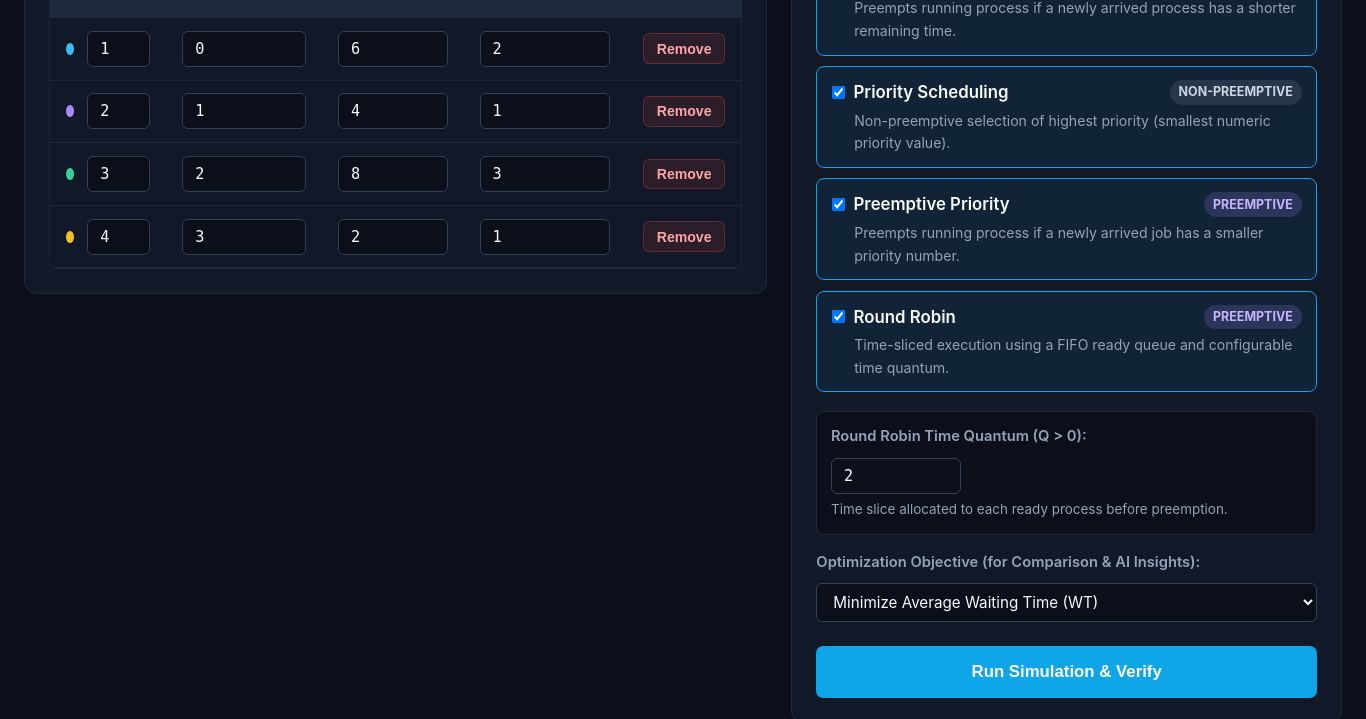
Test case: SchedulAI Frontend Suite › submits simulation, switches to Comparison tab, and displays Gantt and AI Insights
(page scrolled)
Click the button "Run Simulation & Verify" at (1067, 672), box [816,646,1317,698]
(page scrolled)
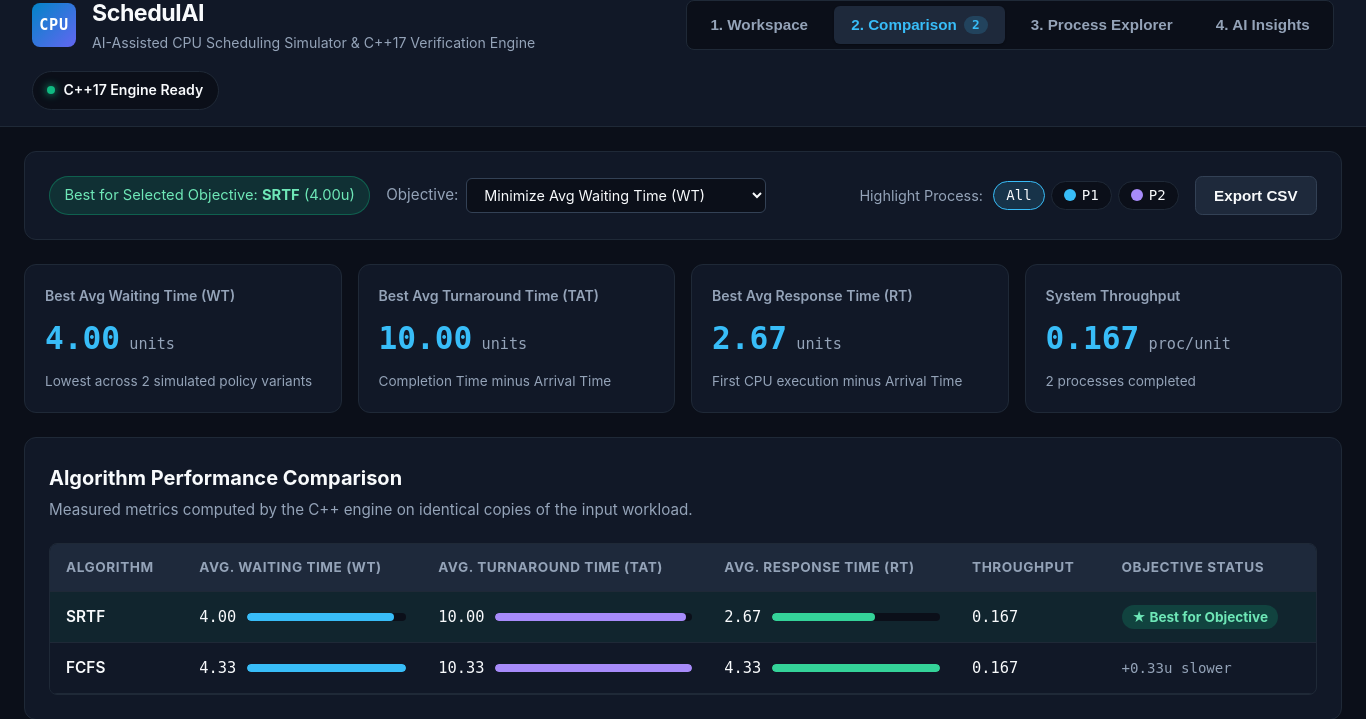
Expected: the heading "Algorithm Performance Comparison" is shown, [49,466,402,490]
Navigate to AI Insights tab
Click the button "4. AI Insights" at (1263, 25), box [1198,6,1327,44]
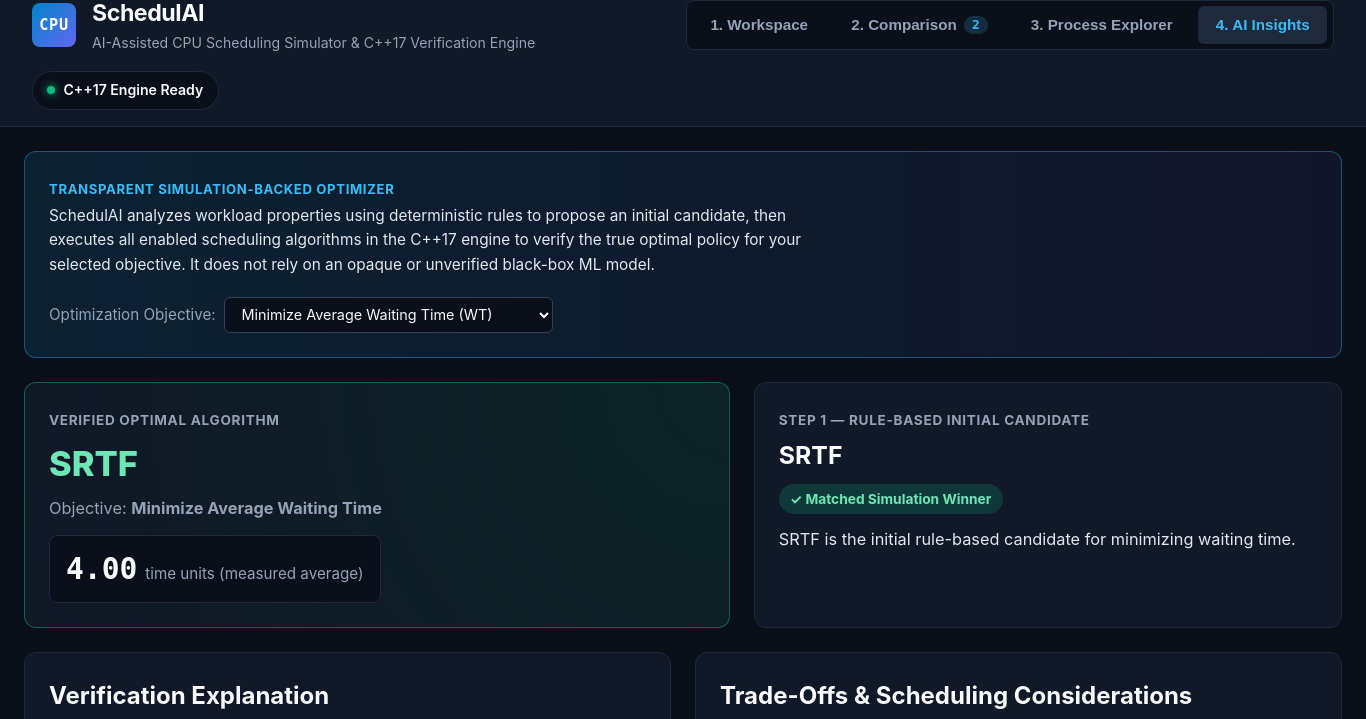
Expected: the text "Transparent Simulation-Backed Optimizer" is shown, [49,178,394,200]
Expected: the text "Verified Optimal Algorithm" is shown, [49,412,280,428]
